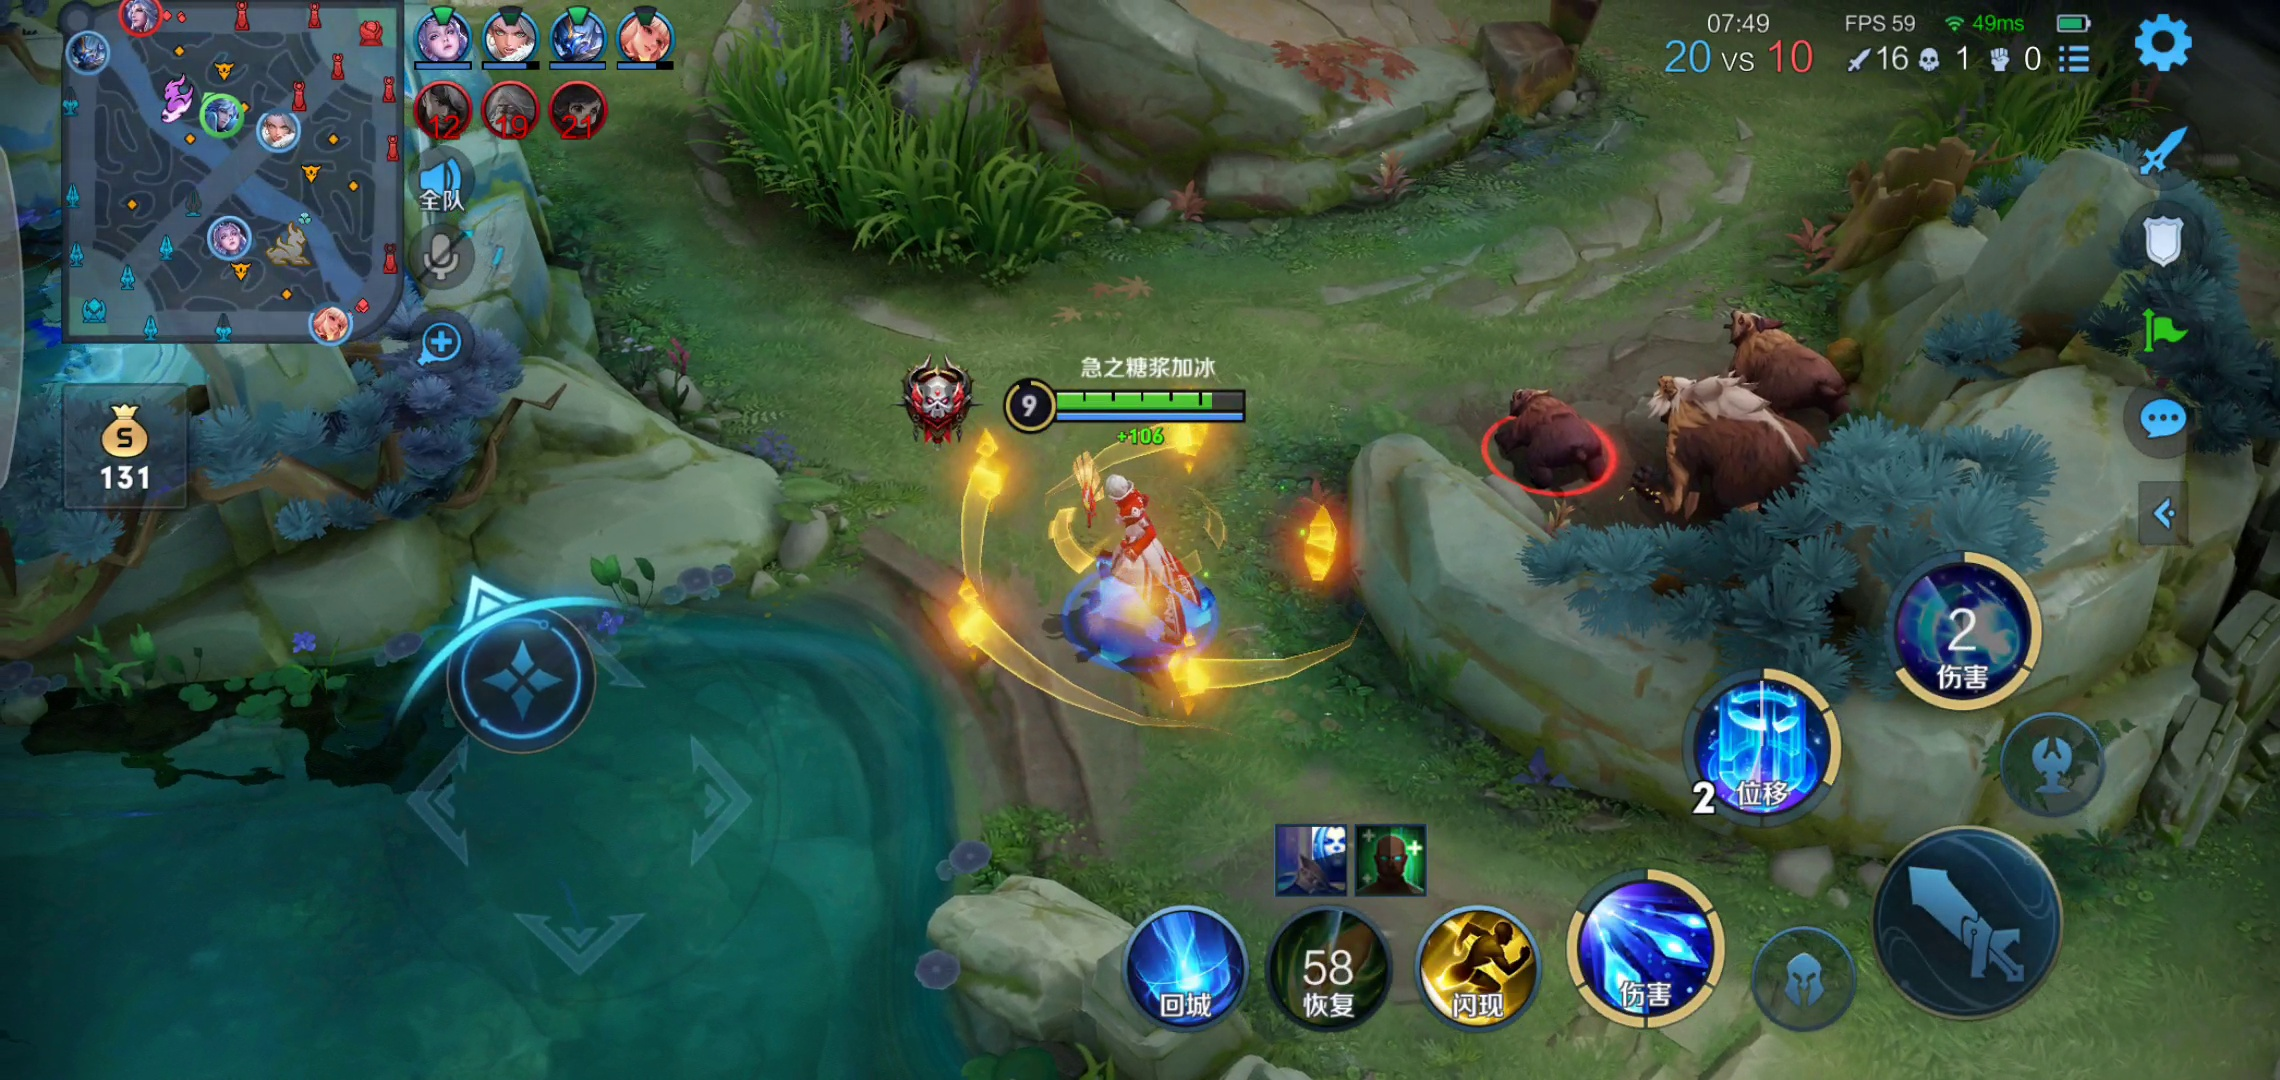grass: (711, 28, 1067, 281), (1906, 31, 2119, 170)
hero: (1053, 465, 1232, 682)
wild_monster: (1482, 286, 1855, 515)
